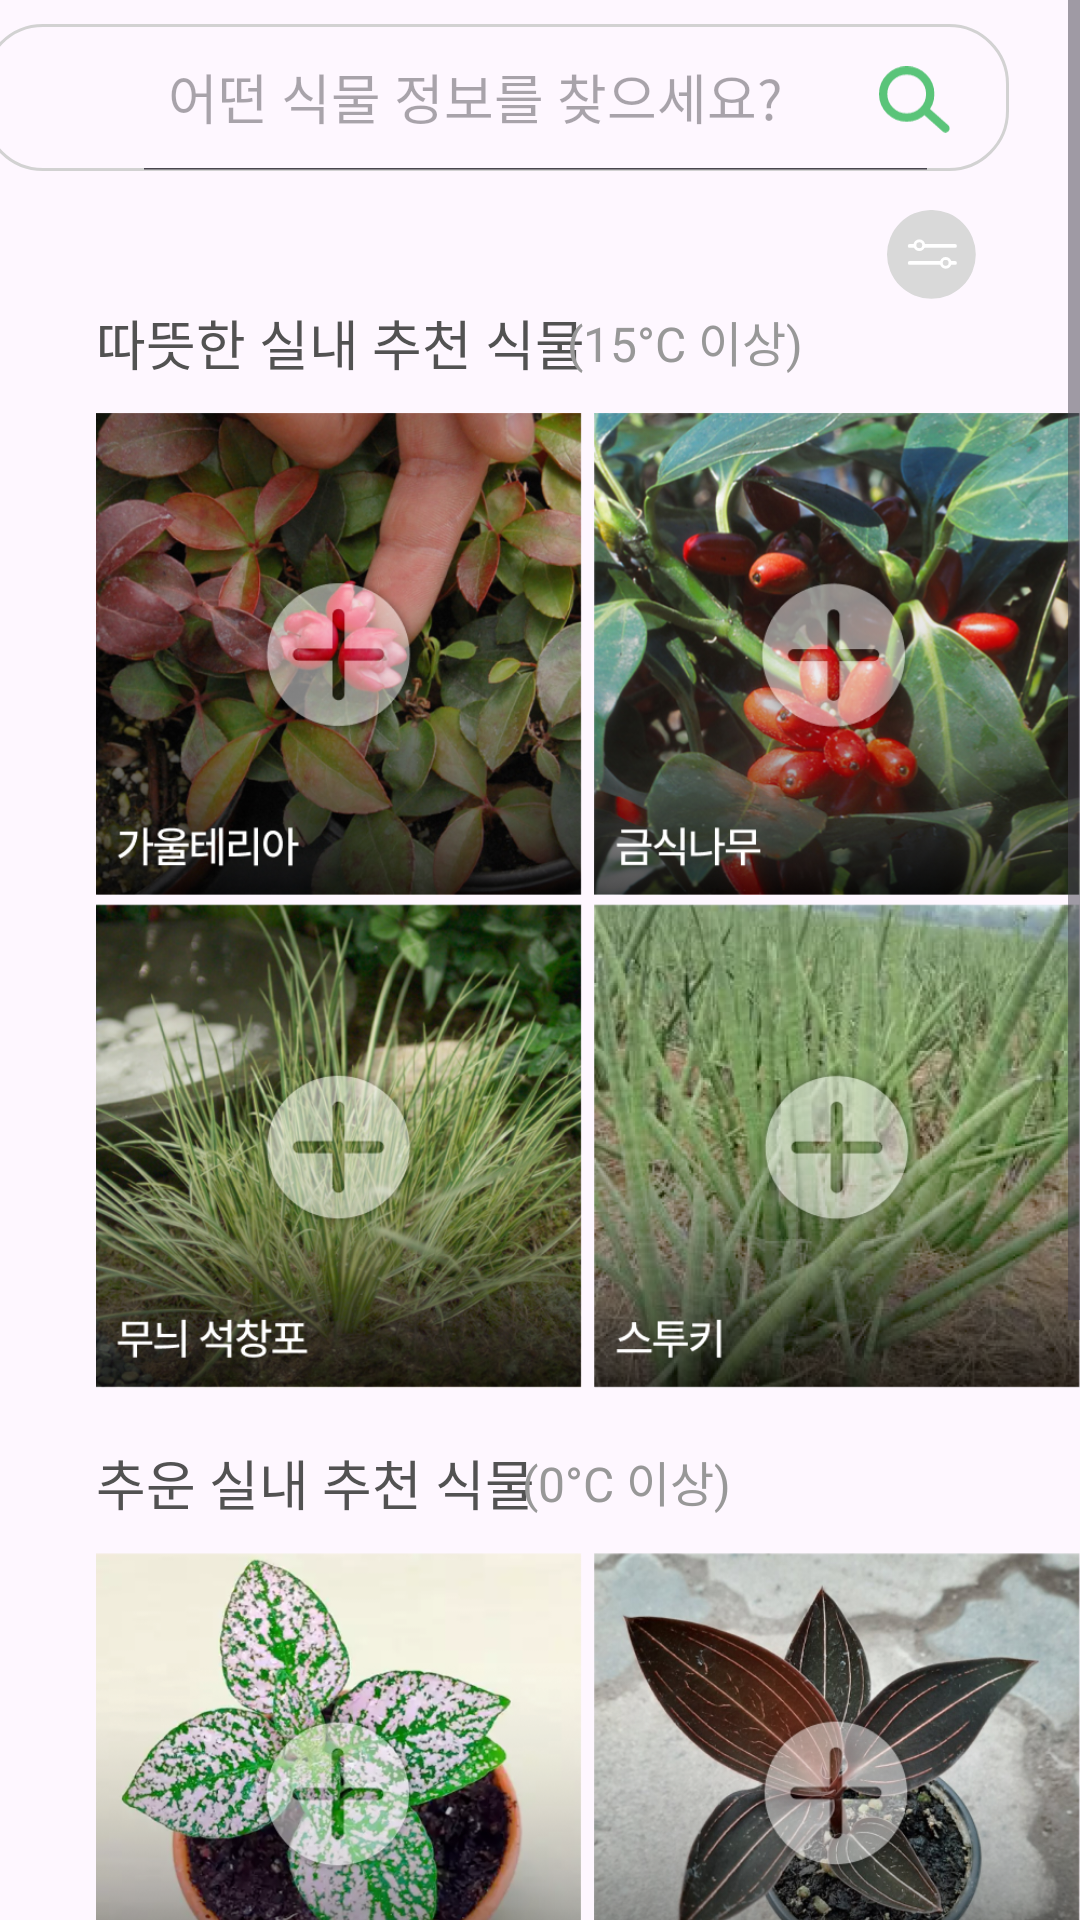

Icons on this 1080w x 1920h Android screen, each with its box as box(x1, y1, x2, y2):
search recommend filter: box(887, 210, 976, 299)
